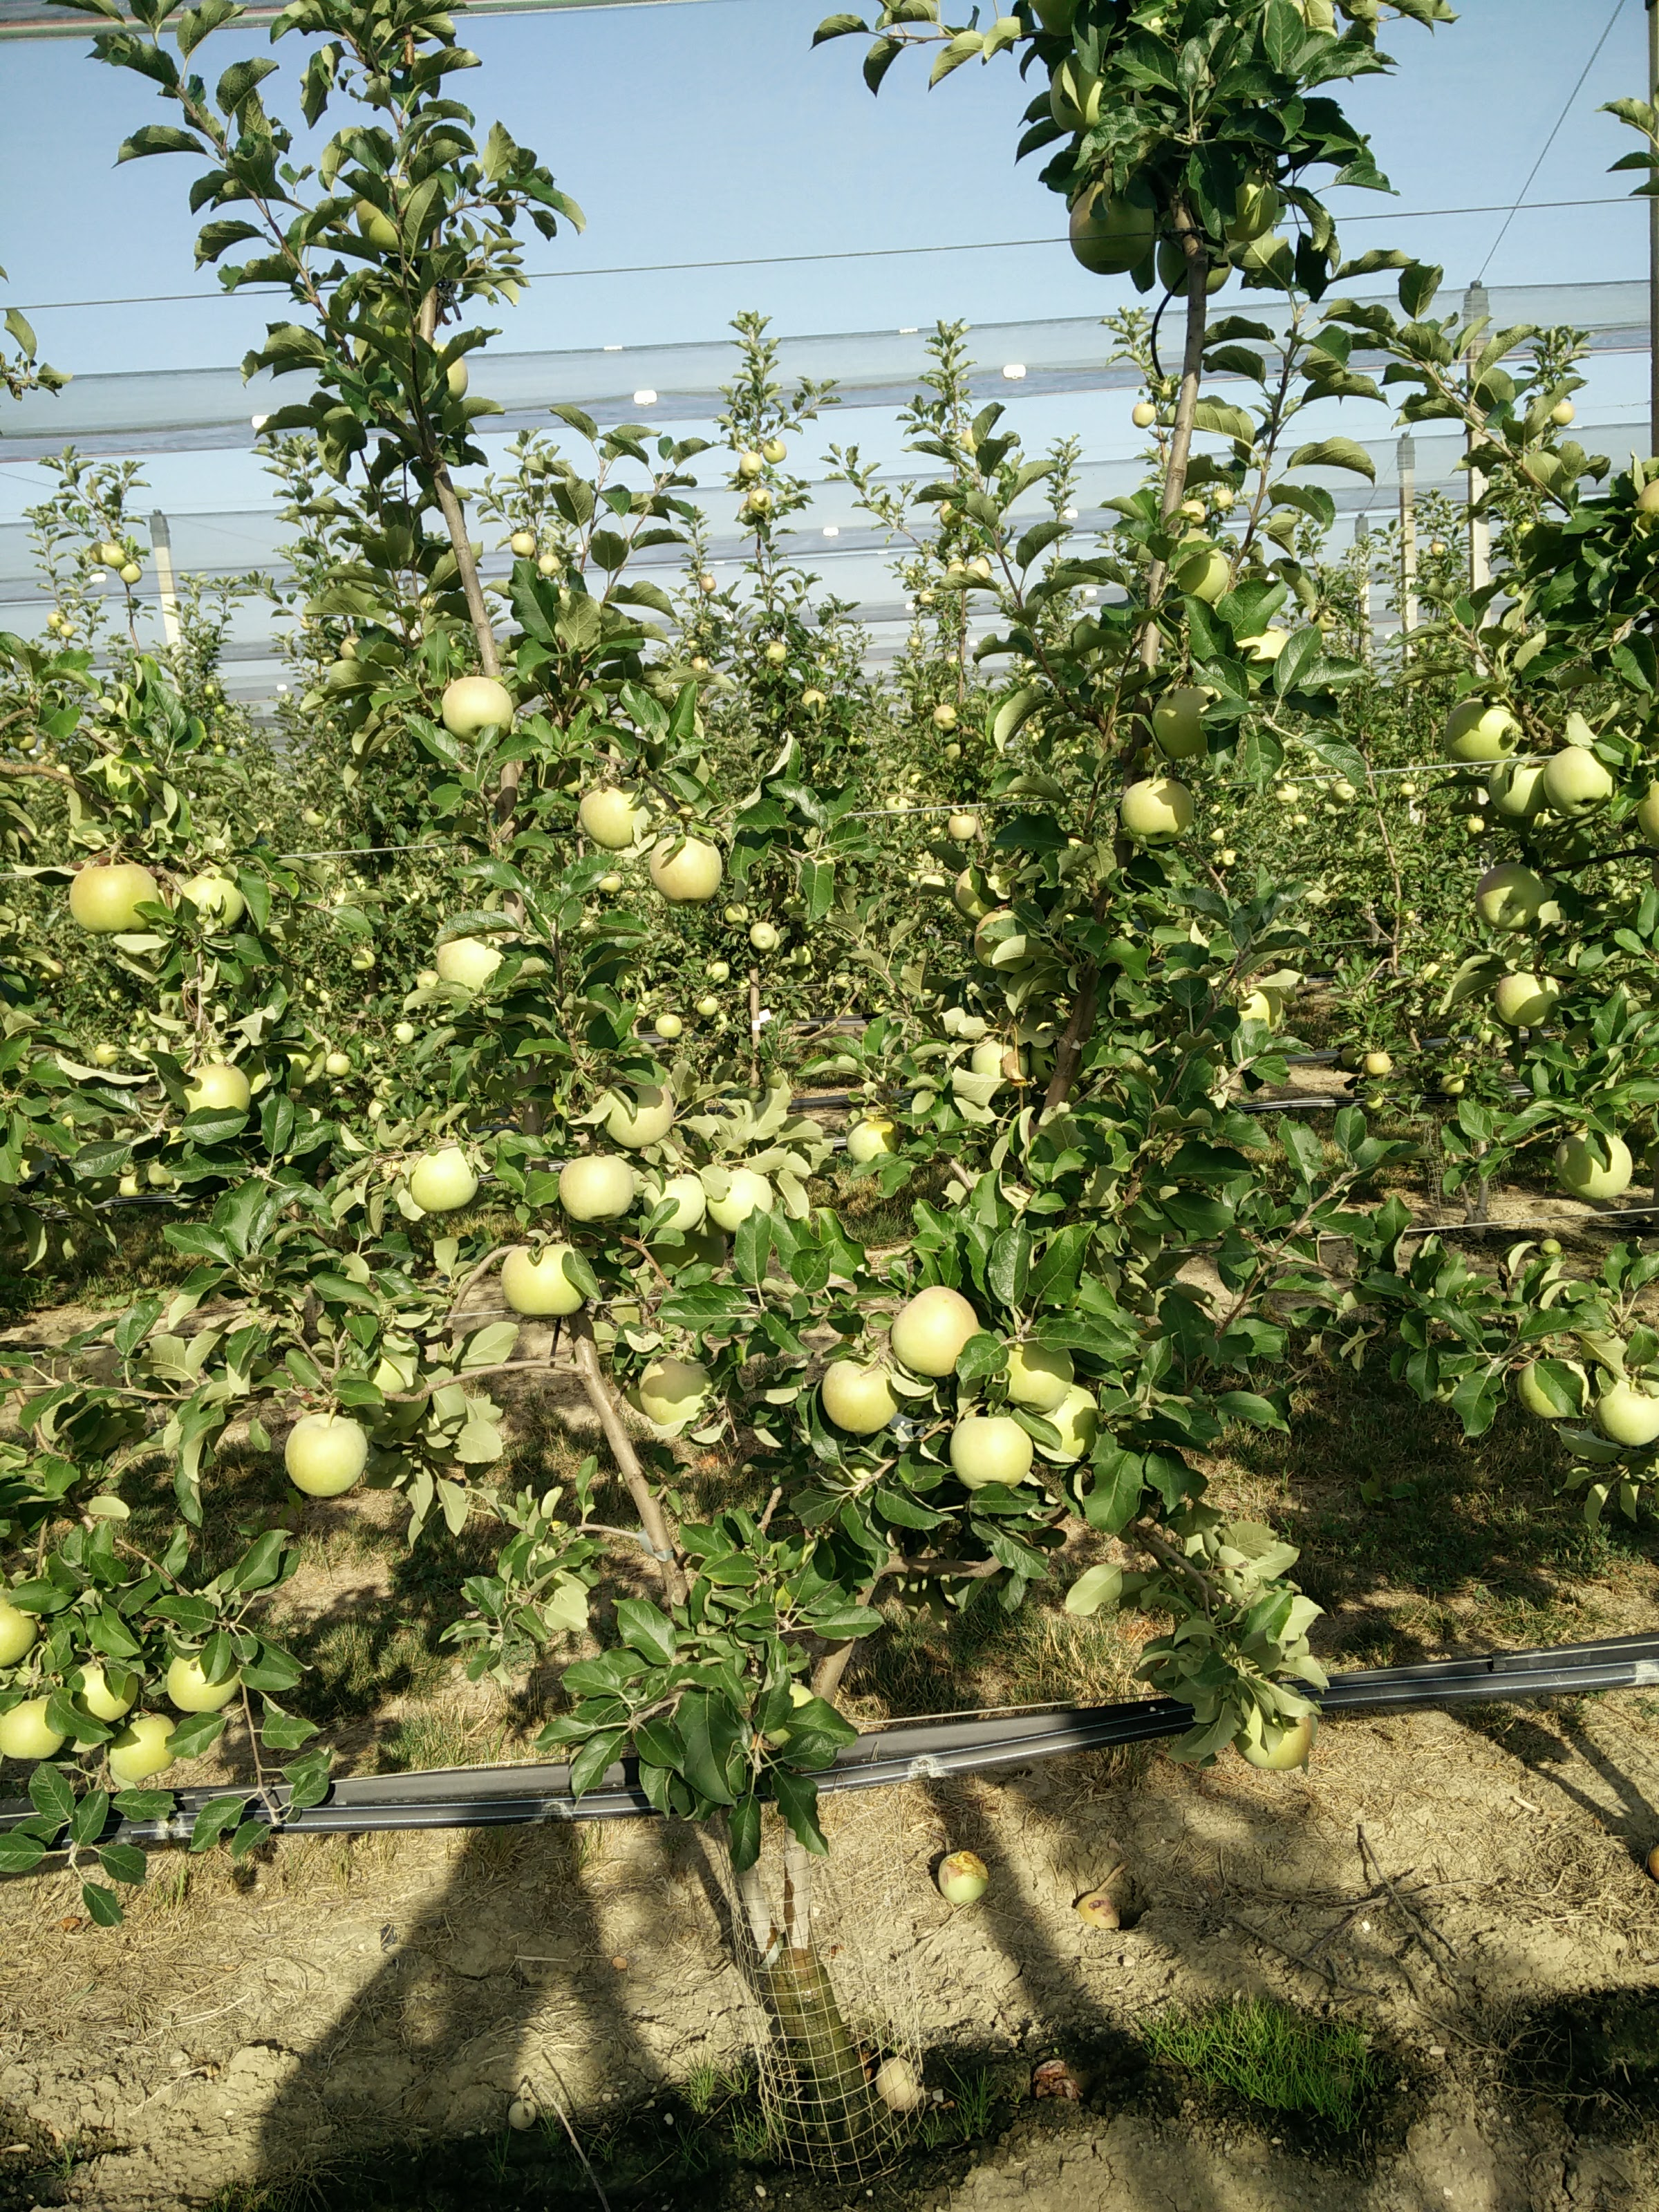apple: (887, 1285, 986, 1380), (1065, 183, 1161, 277), (281, 1413, 370, 1502), (67, 865, 163, 939), (498, 1243, 592, 1318), (818, 1354, 902, 1434), (946, 1415, 1033, 1490), (992, 1333, 1071, 1414), (1147, 682, 1232, 758), (635, 1352, 717, 1430), (572, 776, 657, 850), (592, 1080, 682, 1150), (649, 832, 729, 908), (1555, 1129, 1638, 1202), (438, 675, 516, 751), (1545, 742, 1618, 823), (171, 1062, 252, 1134), (1438, 693, 1519, 764), (556, 1154, 636, 1224), (162, 1643, 243, 1714), (64, 1659, 141, 1730), (1117, 776, 1197, 846), (1472, 861, 1546, 935), (103, 1710, 179, 1781), (402, 1142, 480, 1212), (1492, 750, 1557, 823), (1593, 1375, 1659, 1448), (1, 1696, 66, 1761), (1497, 966, 1560, 1031)
